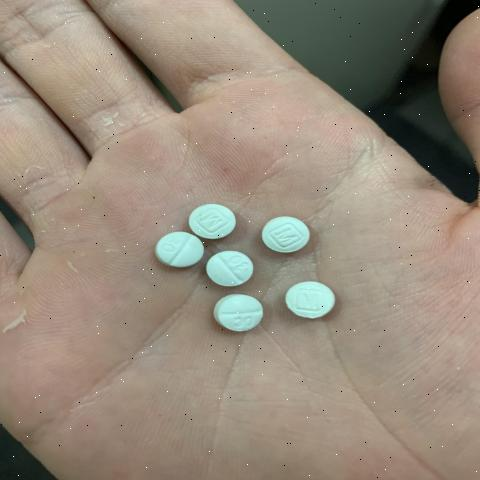Pill: (267, 267, 353, 342), (193, 287, 269, 347), (136, 230, 201, 282), (258, 205, 316, 261), (180, 193, 240, 246), (200, 248, 259, 287)
